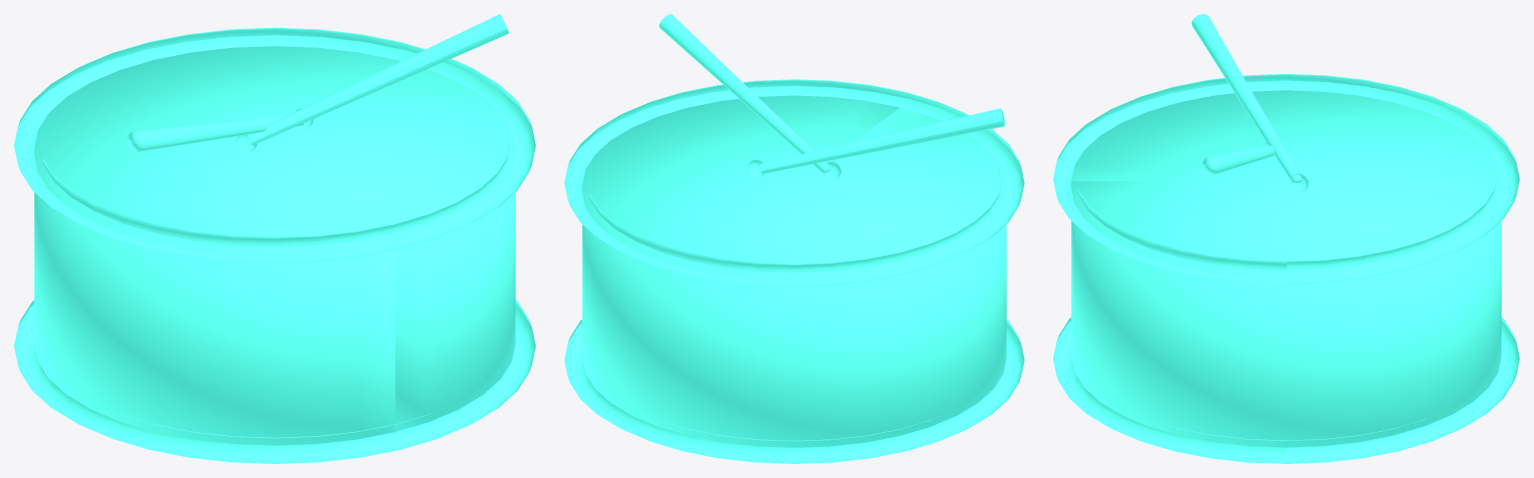
The model's file is drum.glb.
The picture shows the model from 3 angles, left to right: view 1: azimuth 30°, elevation 25°; view 2: azimuth 150°, elevation 25°; view 3: azimuth 270°, elevation 25°; orthographic projection. The views are drawn at different scales.
Visible parts, largest first — view 1: SnareDrum; view 2: SnareDrum; view 3: SnareDrum.
Part boxes in pixels (x1=…): SnareDrum: x1=14, y1=14, x2=535, y2=463; SnareDrum: x1=564, y1=14, x2=1024, y2=463; SnareDrum: x1=1053, y1=14, x2=1519, y2=463.
Bounding box in the file's own units: 2.17 × 1.5 × 2.17.
